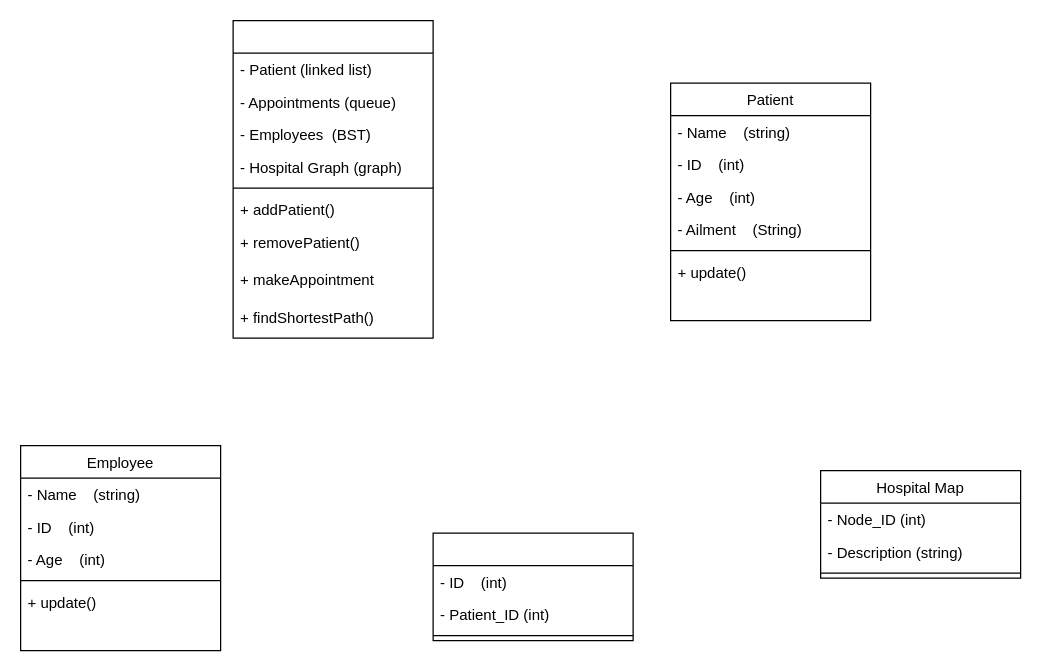
Image size: 1041x671. Some labels were removed from this diagram. Here are the shapes that lost their labels. From the top down, the box of each, then its label:
(232, 19, 433, 338): Management System
(432, 532, 633, 641): Appointment
